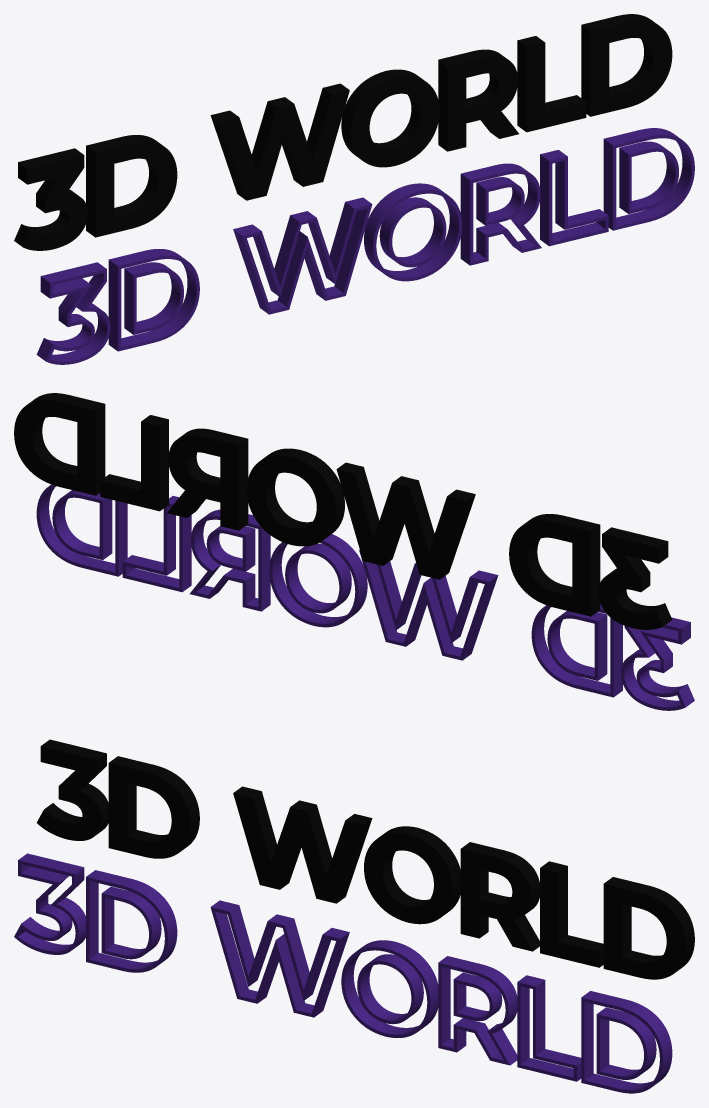
The model's file is 3dWorld.fbx.
3 renders of one model, top to bottom at view 1: azimuth 30°, elevation 25°; view 2: azimuth 150°, elevation 25°; view 3: azimuth 330°, elevation 25°, orthographic.
Parts seen in each view (by area): view 1: Text002, Text001; view 2: Text002, Text001; view 3: Text002, Text001.
Boxes of the visible parts, x1,y1,x2,y2 form: Text002: (14, 14, 672, 250); Text001: (36, 128, 694, 364); Text002: (14, 393, 672, 629); Text001: (36, 484, 694, 710); Text002: (36, 739, 694, 979); Text001: (14, 853, 672, 1093).
Bounding box in the file's own units: 405 × 111 × 34.36.
